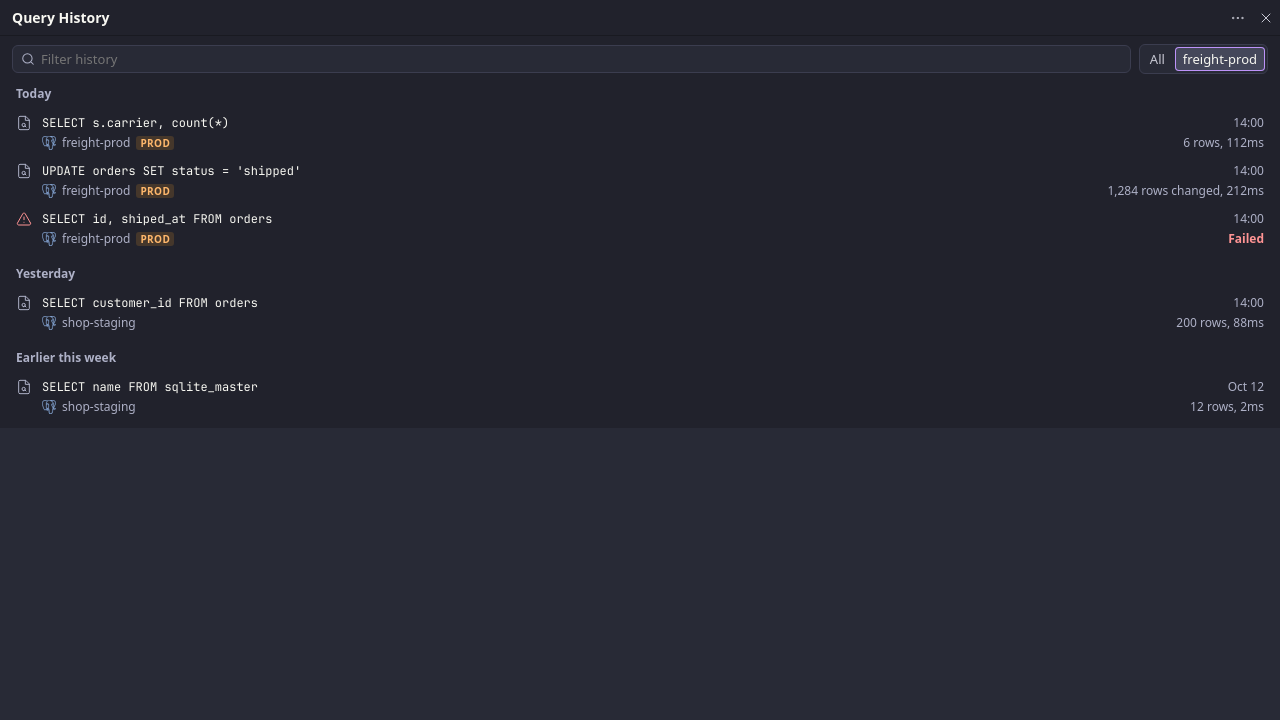
Test: a_failed_statement_shows_its_error_in_the_preview
Click the button "shiped_at" at (157, 219), box [8, 204, 1272, 252]
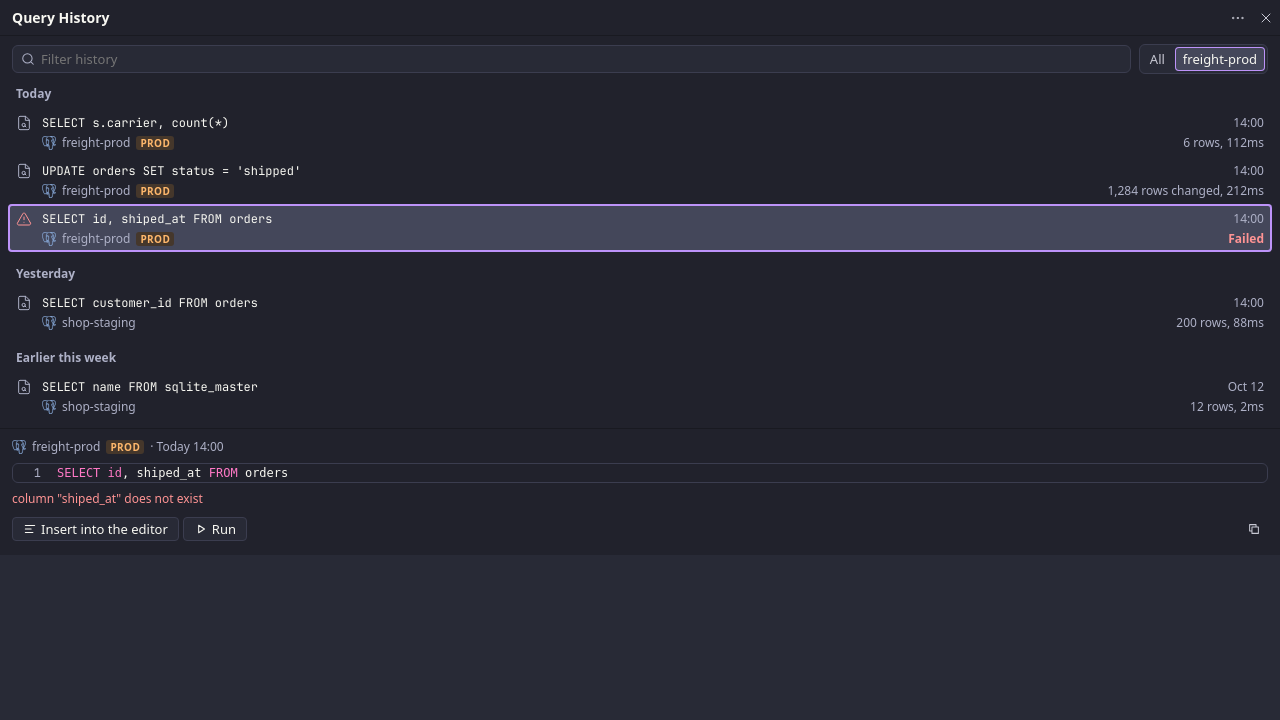
Expected: the text "column \"shiped_at\" does not exist" is shown, [12, 490, 203, 507]
